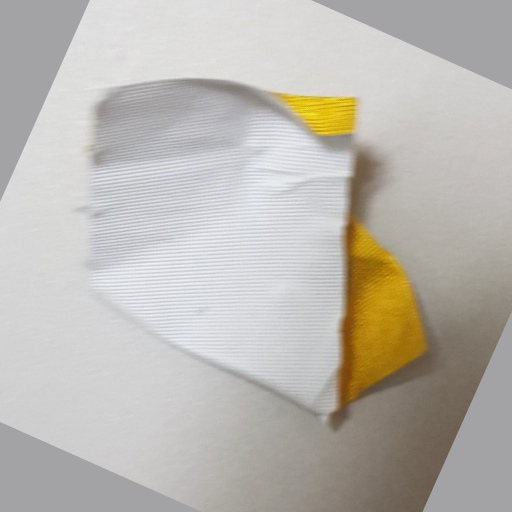Paper_3: (75, 76, 451, 423)
